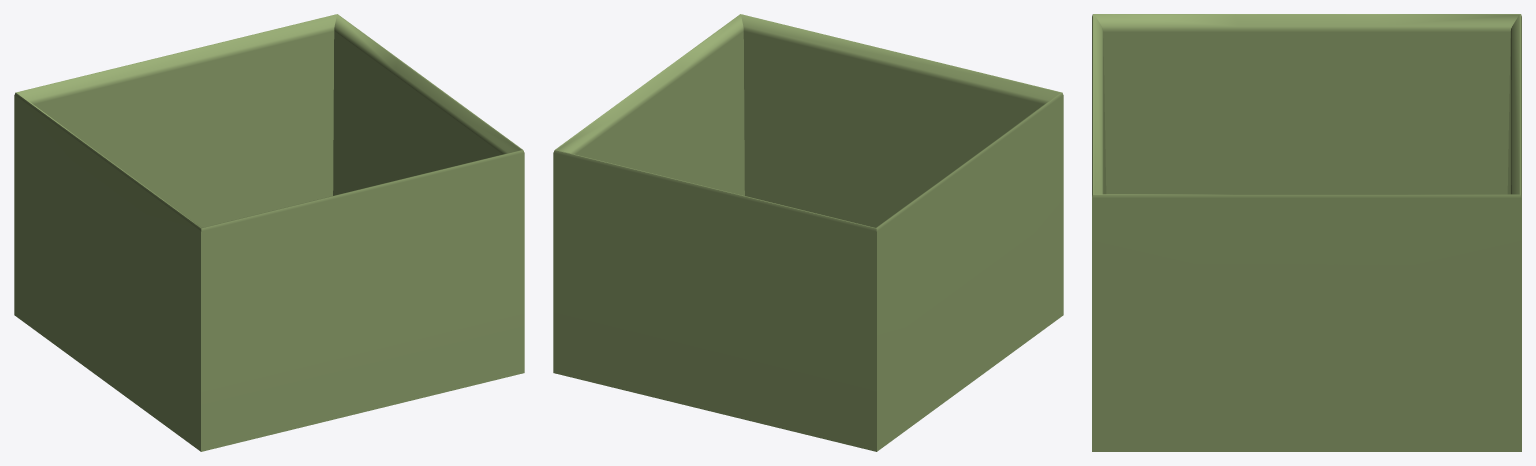
File: AcidPool.fbx
3 views of the same model, side by side, from view 1: azimuth 30°, elevation 25°; view 2: azimuth 150°, elevation 25°; view 3: azimuth 270°, elevation 25° (orthographic). The views are drawn at different scales.
Visible parts, largest first — view 1: AcidPool; view 2: AcidPool; view 3: AcidPool.
Boxes of the visible parts, left/top/right/bottom form: AcidPool: left=14, top=14, right=524, bottom=451; AcidPool: left=553, top=14, right=1063, bottom=451; AcidPool: left=1092, top=14, right=1521, bottom=451.
Bounding box in the file's own units: 3 × 1.98 × 3.
